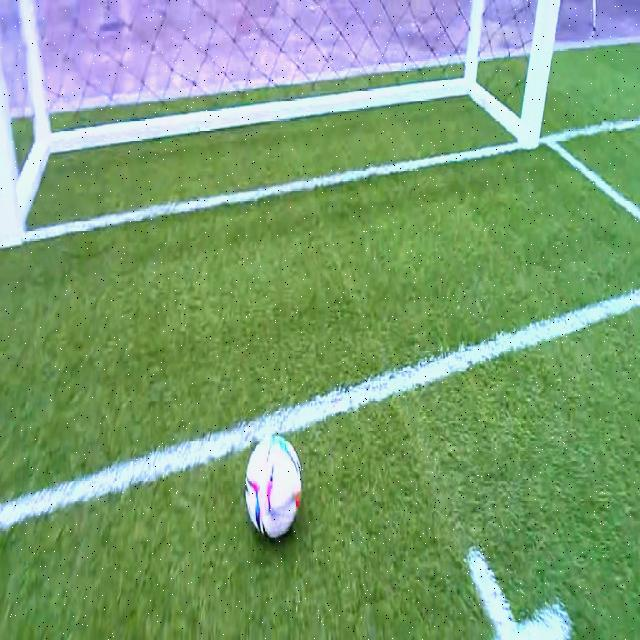ball: (245, 437, 303, 535)
